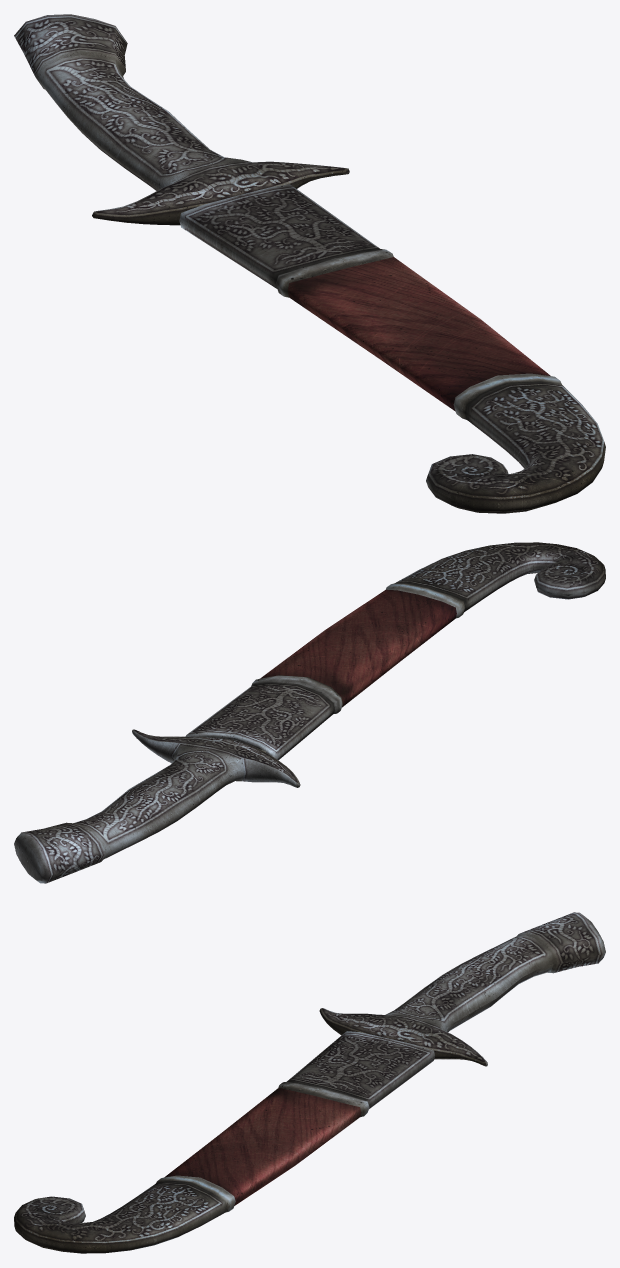
The model's file is Knife_B_with_skabbard.FBX.
3 renders of one model, top to bottom at view 1: azimuth 30°, elevation 25°; view 2: azimuth 150°, elevation 25°; view 3: azimuth 330°, elevation 25°, orthographic. The views are drawn at different scales.
Visible parts, largest first — view 1: Knife_Scabbard_B, Knife_B01; view 2: Knife_Scabbard_B, Knife_B01; view 3: Knife_Scabbard_B, Knife_B01.
Part boxes in pixels (box(x1,y1,x2,y2)): Knife_Scabbard_B: box(179, 184, 605, 513); Knife_B01: box(14, 14, 349, 225); Knife_Scabbard_B: box(185, 542, 605, 760); Knife_B01: box(14, 729, 300, 883); Knife_Scabbard_B: box(14, 1031, 434, 1253); Knife_B01: box(319, 912, 605, 1066).
Bounding box in the file's own units: 16.32 × 2.97 × 65.02.
